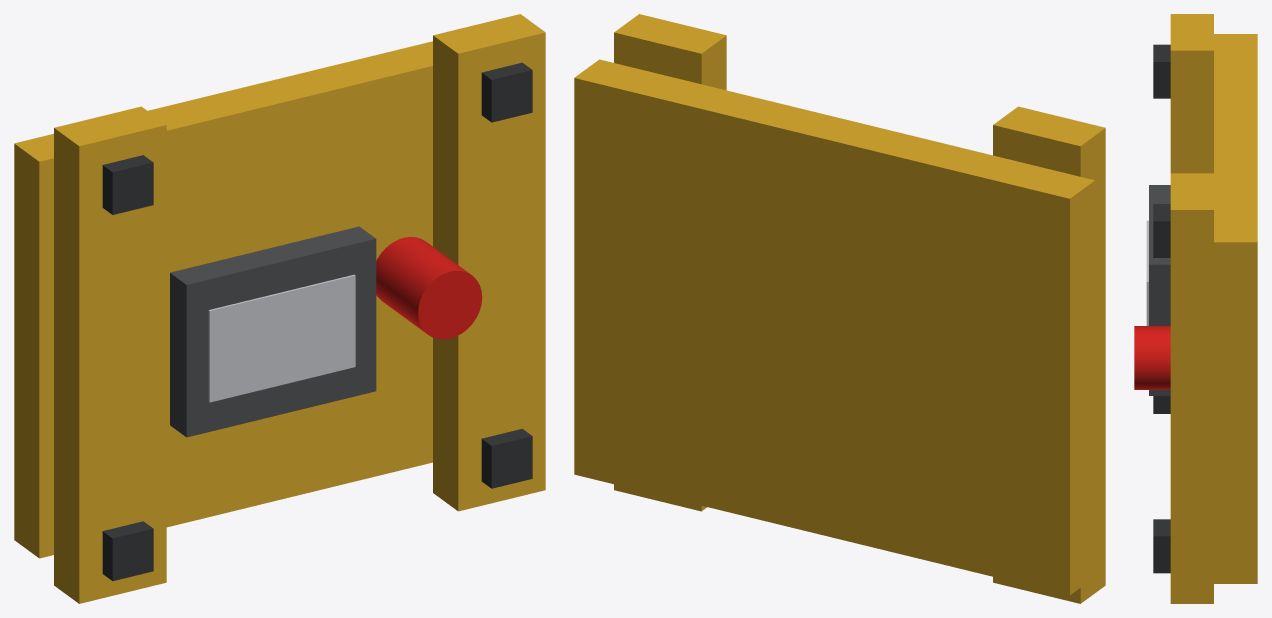
Rendered from RoboticsKAL1000.obj.
3 renders of one model, left to right at view 1: azimuth 30°, elevation 25°; view 2: azimuth 150°, elevation 25°; view 3: azimuth 270°, elevation 25°, orthographic. The views are drawn at different scales.
Visible parts, largest first — view 1: Body; view 2: Body; view 3: Body.
Part boxes in pixels (x1,y1,x2,y2): Body: (14,14,545,603); Body: (574,14,1105,603); Body: (1134,14,1257,603).
Size of the model in its own units: 0.34 by 0.3 by 0.085.
